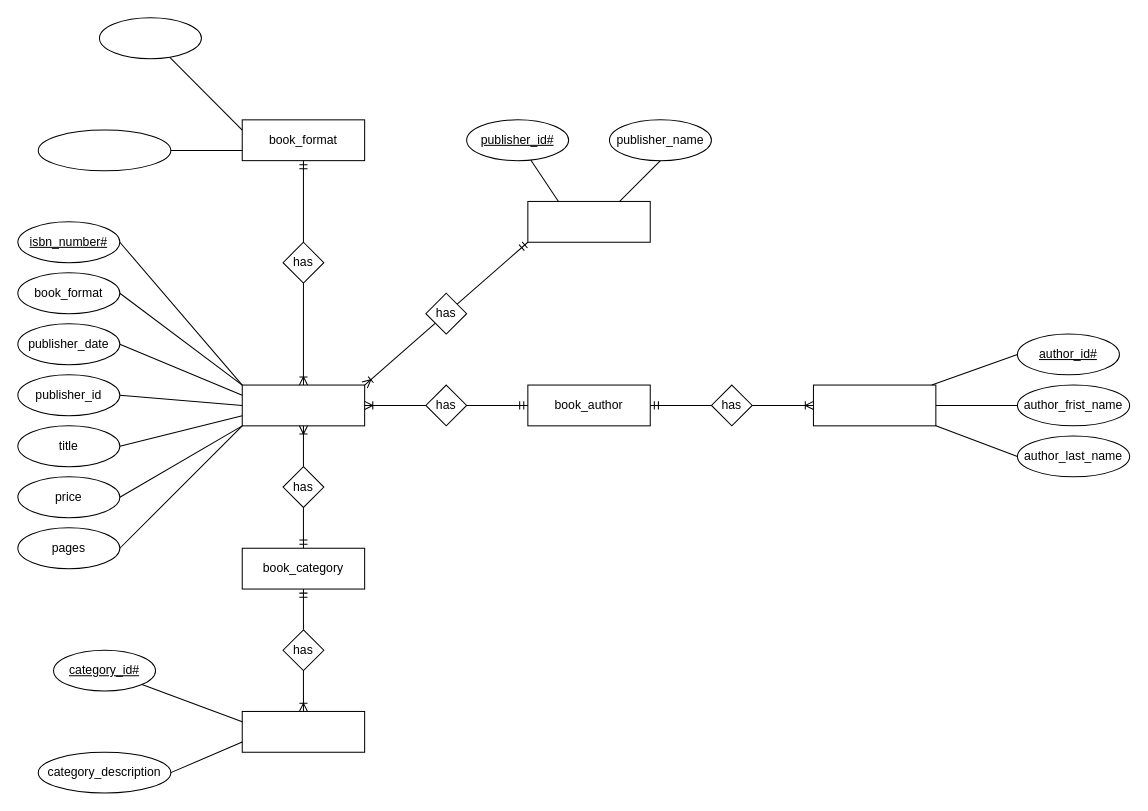
Image size: 1148x811. Some labels were removed from this diagram. Each missing label, with the centre of its shape:
"author" belongs at pixel 874 405.
"book_format#" belongs at pixel 149 38.
"book_title" belongs at pixel 303 405.
"category" belongs at pixel 303 731.
"format_descripstion" belongs at pixel 104 150.
"publisher" belongs at pixel 588 221.
